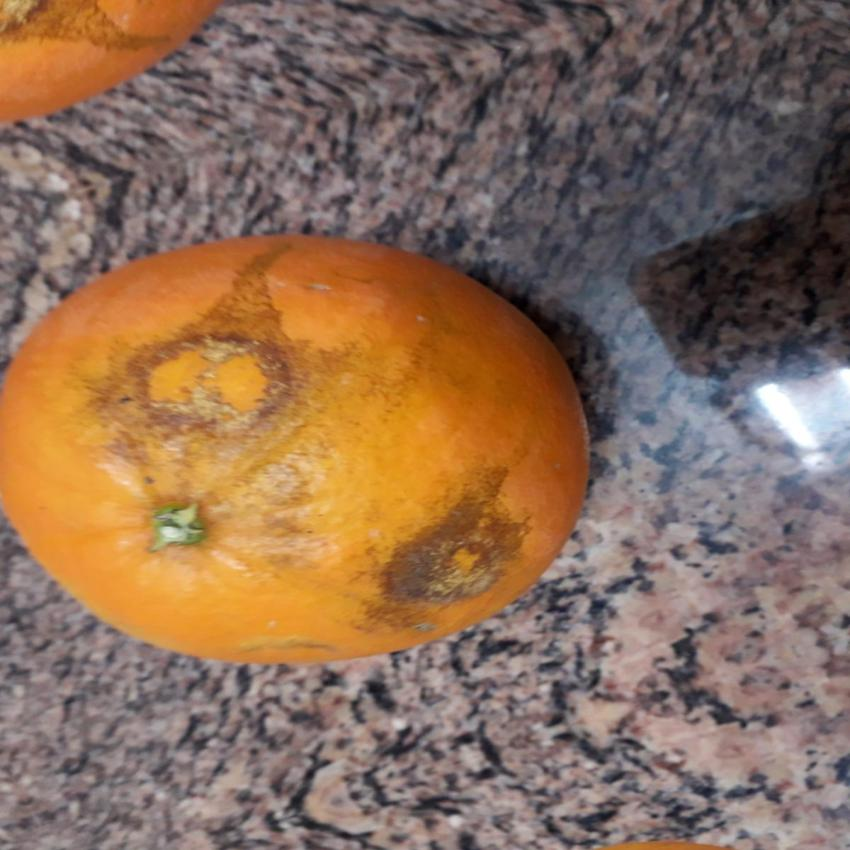Mal estado: (0, 225, 645, 689)
